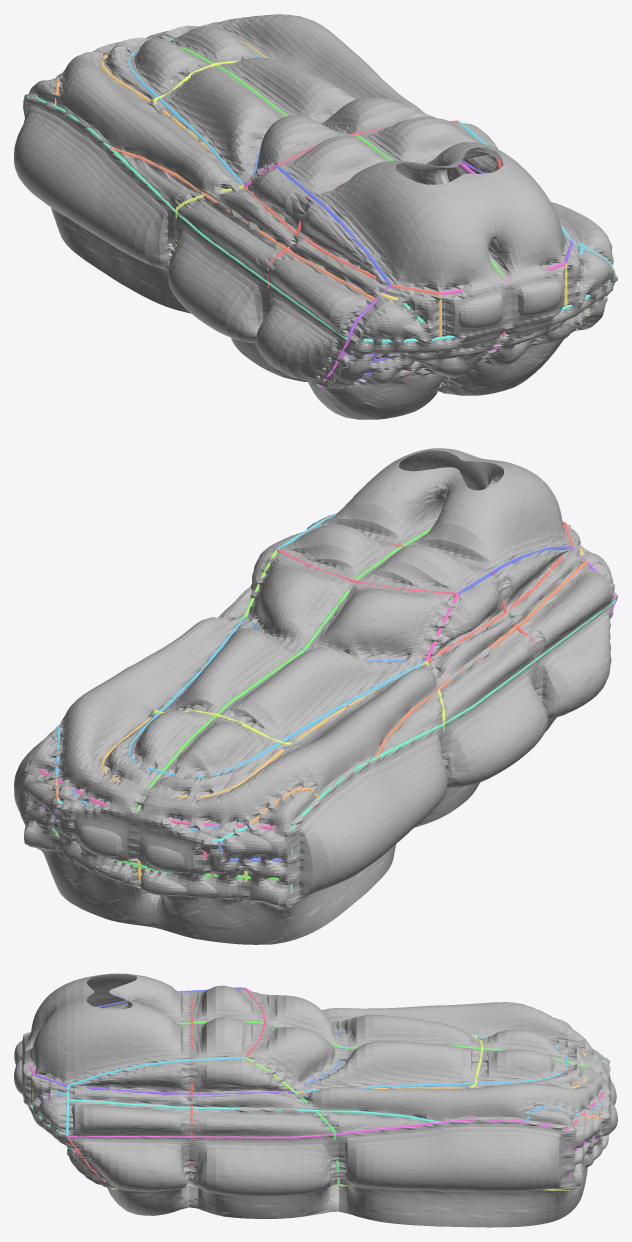
The model's file is t2f_car_93.gltf.
3 views of the same model, one above another, from view 1: azimuth 30°, elevation 25°; view 2: azimuth 150°, elevation 25°; view 3: azimuth 270°, elevation 25° (orthographic). The views are drawn at different scales.
Size of the model in its own units: 0.4814 by 0.3211 by 0.938.
